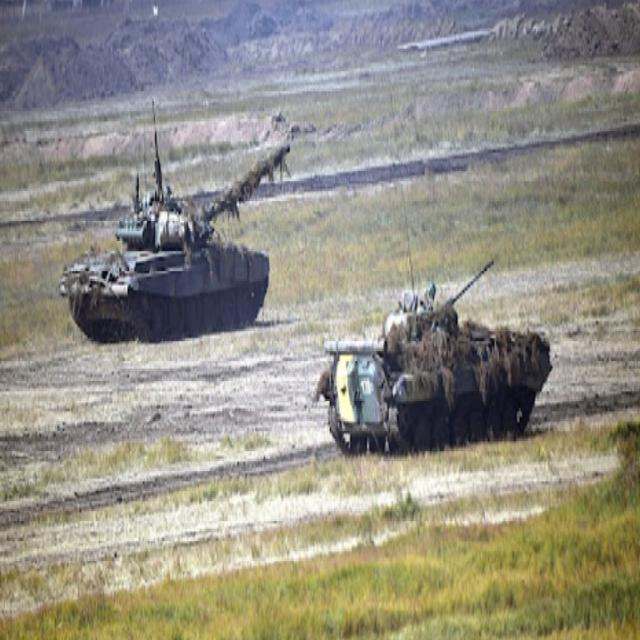APC-IFV: (321, 249, 553, 460)
TANK: (58, 138, 290, 349)
